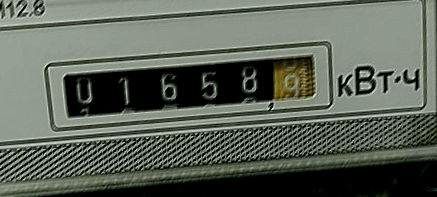0: (72, 73, 94, 104)
1: (115, 72, 134, 105)
5: (197, 67, 220, 99)
6: (156, 67, 179, 102)
8: (237, 60, 260, 94)
9: (278, 71, 302, 100)
screen: (34, 29, 340, 138)
